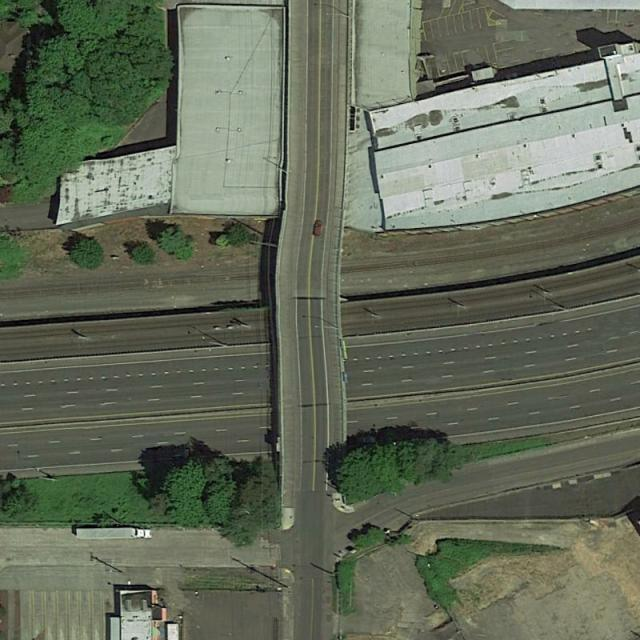vehicle: (76, 528, 150, 538), (314, 221, 321, 235)
